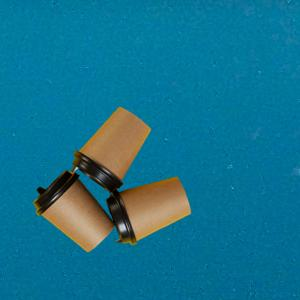cup: (74, 104, 151, 191), (35, 171, 113, 255), (106, 178, 192, 248)
